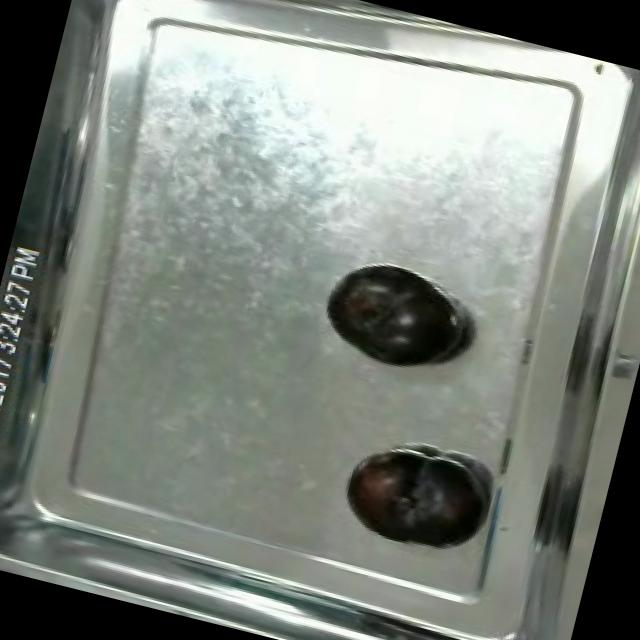Fruit: (332, 432, 493, 561), (310, 254, 469, 382)
